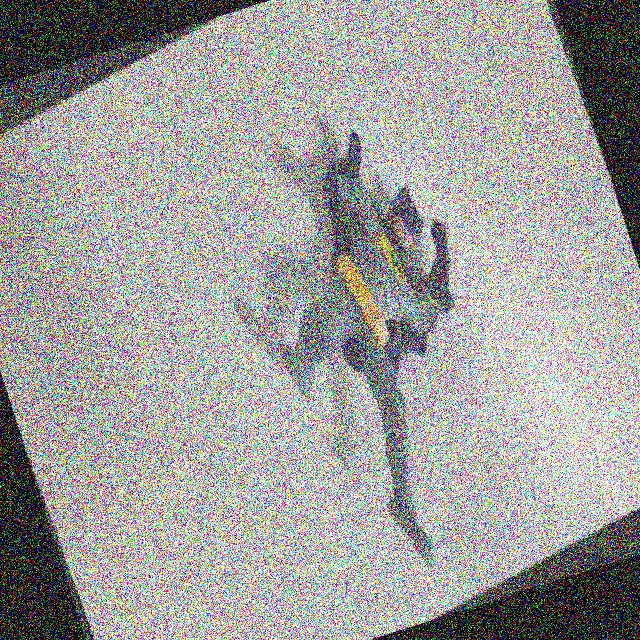Batman: (207, 98, 561, 618)
